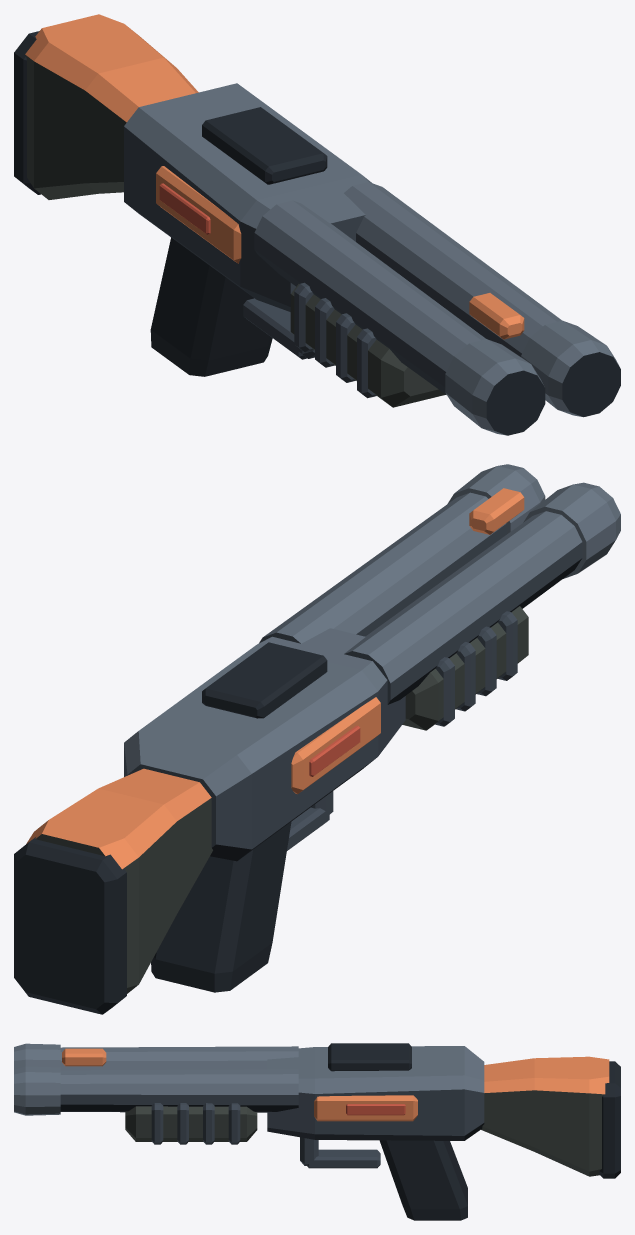
Rendered from EnemyShotgunGun.obj.
The picture shows the model from 3 angles, top to bottom: view 1: azimuth 30°, elevation 25°; view 2: azimuth 150°, elevation 25°; view 3: azimuth 270°, elevation 25°; orthographic projection. The views are drawn at different scales.
Parts seen in each view (by area): view 1: EnemyShotgunGun; view 2: EnemyShotgunGun; view 3: EnemyShotgunGun.
Part boxes in pixels (<box>): EnemyShotgunGun: <box>14,14,620,435</box>; EnemyShotgunGun: <box>14,464,620,1014</box>; EnemyShotgunGun: <box>14,1043,620,1220</box>.
Bounding box in the file's own units: 0.95 × 1.49 × 5.2.
1 material, 1 textured.
